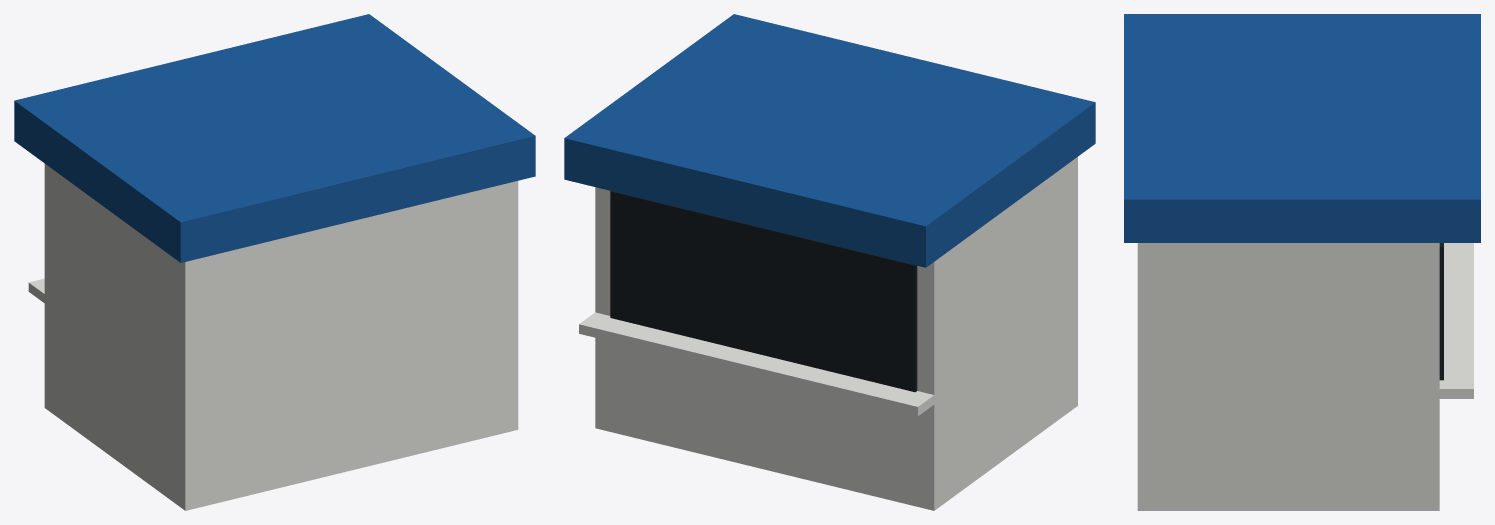
The model's file is bne_kiosk.dae.
The picture shows the model from 3 angles, left to right: view 1: azimuth 30°, elevation 25°; view 2: azimuth 150°, elevation 25°; view 3: azimuth 270°, elevation 25°; orthographic projection. The views are drawn at different scales.
Parts seen in each view (by area): view 1: bne_kiosk_0, bne_kiosk_2; view 2: bne_kiosk_2, bne_kiosk_0, bne_kiosk_1; view 3: bne_kiosk_0, bne_kiosk_2, bne_kiosk_1.
Part boxes in pixels (box(x1,y1,x2,y2)): bne_kiosk_0: box(28, 164, 518, 510); bne_kiosk_2: box(14, 14, 535, 262); bne_kiosk_2: box(564, 14, 1095, 267); bne_kiosk_0: box(579, 157, 1077, 510); bne_kiosk_1: box(610, 191, 917, 392); bne_kiosk_0: box(1137, 243, 1473, 510); bne_kiosk_2: box(1124, 14, 1480, 242); bne_kiosk_1: box(1439, 243, 1443, 380).
Size of the model in its own units: 3.2 by 2.6 by 2.55.
